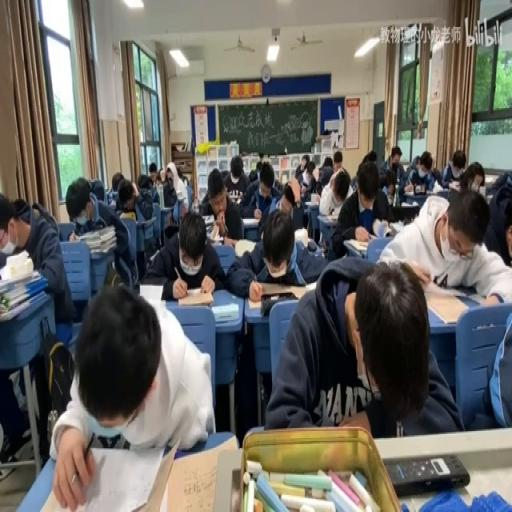calculator: (160, 438, 238, 512), (384, 452, 470, 494), (250, 279, 312, 307), (423, 289, 468, 324), (176, 287, 214, 306), (210, 300, 238, 322), (137, 283, 165, 304), (234, 236, 256, 256), (293, 224, 309, 248), (344, 239, 370, 253), (208, 223, 226, 243), (371, 218, 390, 236), (463, 290, 485, 304), (403, 189, 429, 198), (386, 220, 402, 234), (302, 277, 318, 290), (120, 209, 136, 221), (241, 214, 259, 224), (222, 235, 238, 246), (401, 196, 419, 205), (202, 213, 214, 225), (325, 212, 339, 222), (305, 198, 320, 206), (478, 183, 486, 195), (426, 189, 442, 194)
paper: (50, 281, 212, 512), (266, 256, 462, 437), (0, 188, 75, 461), (378, 183, 510, 306), (228, 202, 322, 294), (65, 175, 134, 294), (143, 208, 230, 298), (330, 158, 394, 259), (471, 302, 512, 430), (243, 160, 282, 228), (292, 156, 322, 234), (120, 175, 155, 226), (220, 155, 249, 202), (154, 168, 178, 222), (406, 148, 436, 190), (442, 149, 466, 189), (379, 145, 402, 186), (352, 151, 372, 186), (486, 171, 511, 199), (172, 192, 190, 226), (331, 174, 348, 204), (110, 172, 126, 203), (89, 176, 105, 202), (318, 165, 334, 189), (11, 196, 28, 218), (470, 165, 484, 188), (430, 166, 442, 185), (148, 163, 158, 185), (333, 150, 342, 174), (294, 166, 305, 185), (174, 166, 184, 184), (248, 168, 258, 182), (366, 149, 376, 162), (274, 176, 282, 192), (131, 180, 138, 198), (322, 156, 332, 168), (260, 151, 270, 162), (159, 169, 166, 182), (192, 199, 198, 213), (255, 160, 262, 170), (414, 155, 421, 165), (182, 176, 188, 186)
person: (392, 203, 418, 222)
